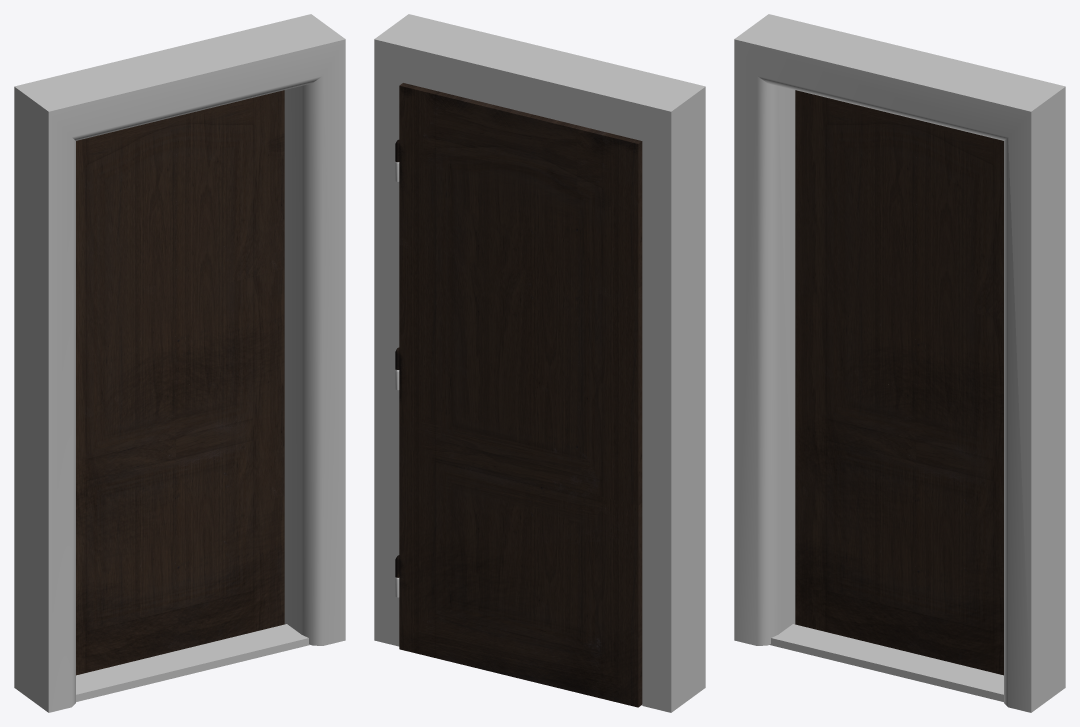
The model's file is doorfile2.fbx.
3 renders of one model, left to right at view 1: azimuth 30°, elevation 25°; view 2: azimuth 150°, elevation 25°; view 3: azimuth 330°, elevation 25°, orthographic.
Parts seen in each view (by area): view 1: doorWing.001, jj_door_4_dark; view 2: doorWing.001, jj_door_4_dark; view 3: doorWing.001, jj_door_4_dark.
Part boxes in pixels (x1,y1,x2,y2): doorWing.001: (76, 90, 284, 675); jj_door_4_dark: (14, 14, 345, 712); doorWing.001: (395, 83, 642, 707); jj_door_4_dark: (374, 14, 705, 712); doorWing.001: (795, 90, 1003, 675); jj_door_4_dark: (734, 14, 1065, 712).
Bounding box in the file's own units: 112 × 217 × 25.28.
